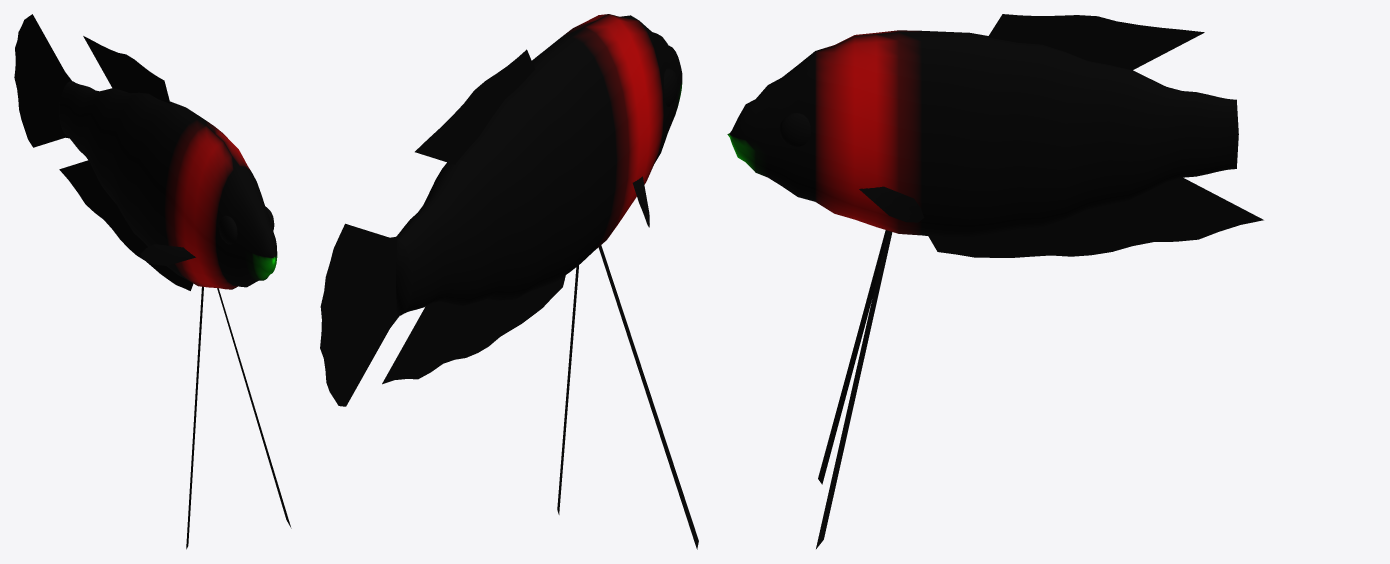
File: giant-gourami.glb
3 views of the same model, side by side, from view 1: azimuth 30°, elevation 25°; view 2: azimuth 150°, elevation 25°; view 3: azimuth 270°, elevation 25° (orthographic). The views are drawn at different scales.
Visible parts, largest first — view 1: giant_body, giant_caudal, giant_anal, giant_dorsal, giant_pectoralL, giant_pelvicL, giant_pelvicR, giant_eyeL; view 2: giant_body, giant_caudal, giant_anal, giant_dorsal, giant_pelvicL, giant_pelvicR; view 3: giant_body, giant_anal, giant_dorsal, giant_pelvicR, giant_pelvicL, giant_pectoralR, giant_eyeR.
Part boxes in pixels (x1=…): giant_body: x1=59, y1=81, x2=277, y2=289; giant_caudal: x1=14, y1=14, x2=72, y2=147; giant_anal: x1=59, y1=160, x2=193, y2=290; giant_dorsal: x1=83, y1=36, x2=170, y2=103; giant_pectoralL: x1=140, y1=244, x2=195, y2=265; giant_pelvicL: x1=186, y1=286, x2=203, y2=549; giant_pelvicR: x1=217, y1=288, x2=291, y2=528; giant_eyeL: x1=219, y1=215, x2=237, y2=244; giant_body: x1=396, y1=14, x2=682, y2=315; giant_caudal: x1=320, y1=223, x2=399, y2=406; giant_anal: x1=382, y1=275, x2=565, y2=384; giant_dorsal: x1=415, y1=49, x2=535, y2=164; giant_pelvicL: x1=598, y1=245, x2=698, y2=549; giant_pelvicR: x1=557, y1=265, x2=578, y2=514; giant_body: x1=727, y1=30, x2=1238, y2=237; giant_anal: x1=928, y1=177, x2=1263, y2=257; giant_dorsal: x1=988, y1=14, x2=1204, y2=70; giant_pelvicR: x1=816, y1=230, x2=892, y2=548; giant_pelvicL: x1=818, y1=230, x2=887, y2=484; giant_pectoralR: x1=859, y1=186, x2=923, y2=222; giant_eyeR: x1=779, y1=113, x2=810, y2=146.
Bounding box in the file's own units: 0.3144 × 1.09 × 1.27.
